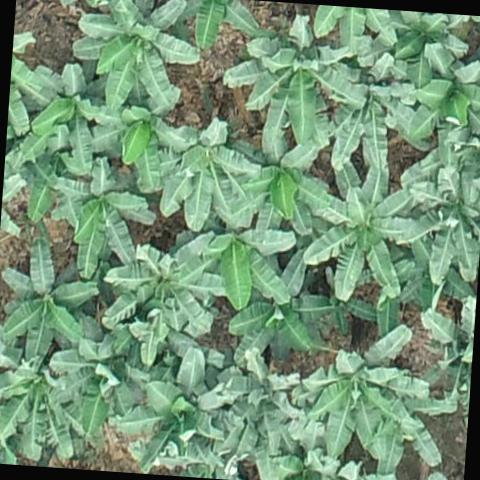Banana-plant: (297, 318, 467, 471), (218, 9, 374, 158), (100, 220, 243, 376), (296, 152, 442, 304), (108, 343, 254, 480), (126, 110, 274, 237), (0, 219, 107, 375), (72, 78, 208, 200), (44, 310, 165, 444), (42, 151, 162, 286), (67, 0, 205, 116), (296, 49, 420, 176), (215, 344, 329, 480), (222, 246, 339, 378), (0, 332, 114, 466), (15, 52, 132, 176), (387, 161, 480, 288), (404, 290, 476, 418), (405, 38, 480, 152), (310, 265, 386, 337)
